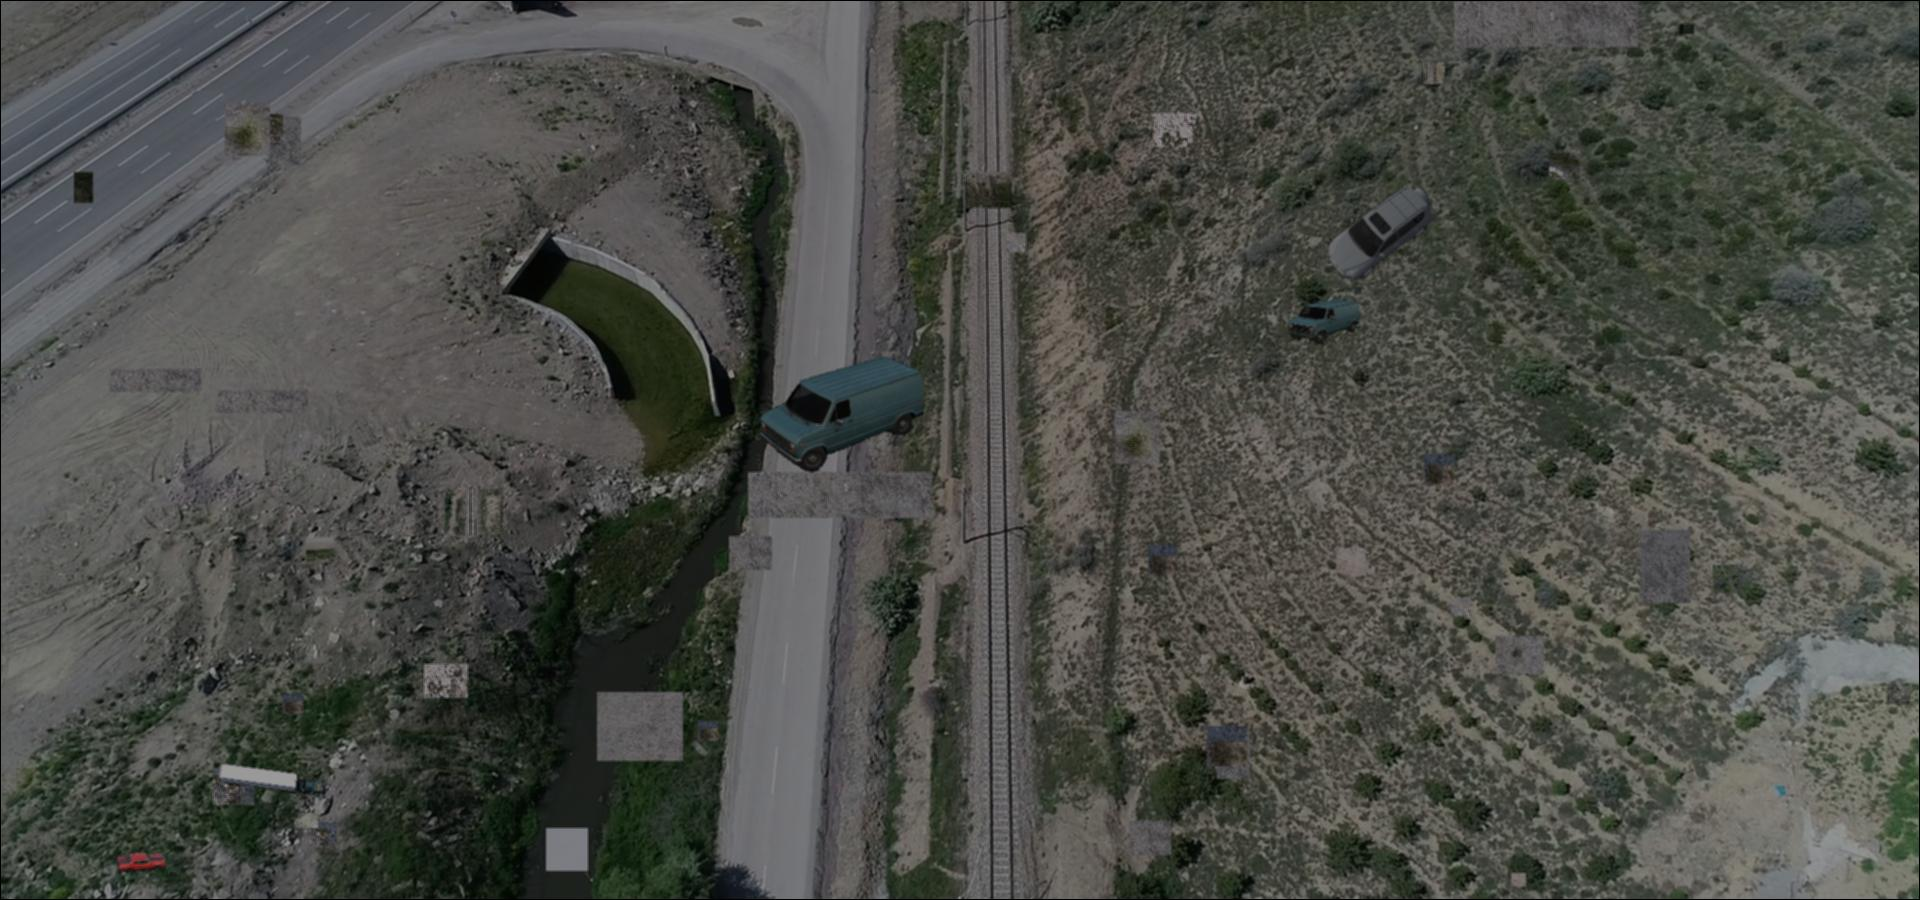arac: (757, 354, 924, 471), (1322, 189, 1434, 279), (217, 760, 326, 798), (1287, 298, 1360, 345), (116, 852, 167, 873)
